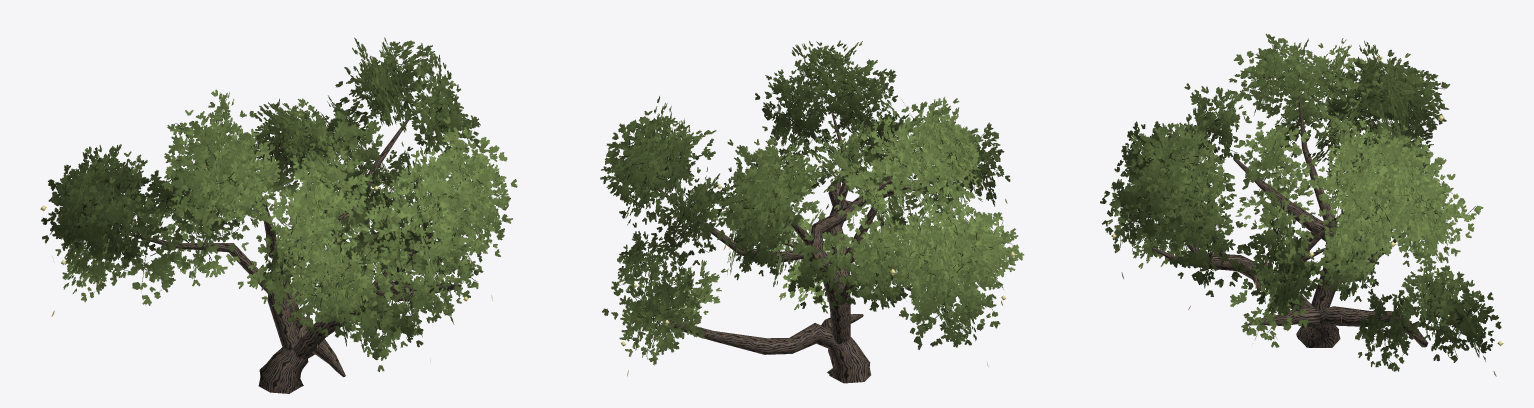
The model's file is old-a.lod1.glb.
3 renders of one model, left to right at view 1: azimuth 30°, elevation 25°; view 2: azimuth 150°, elevation 25°; view 3: azimuth 270°, elevation 25°, orthographic. The views are drawn at different scales.
Parts seen in each view (by area): view 1: foliage, bark; view 2: foliage, bark; view 3: foliage, bark.
Part boxes in pixels (x1,y1,x2,y2): foliage: (41,37,517,371); bark: (116,113,461,393); foliage: (600,40,1024,365); bark: (655,112,932,383); foliage: (1100,33,1501,371); bark: (1151,96,1428,347).
Bounding box in the file's own units: 14.55 × 9.5 × 12.89.
4 materials, 3 textured.
